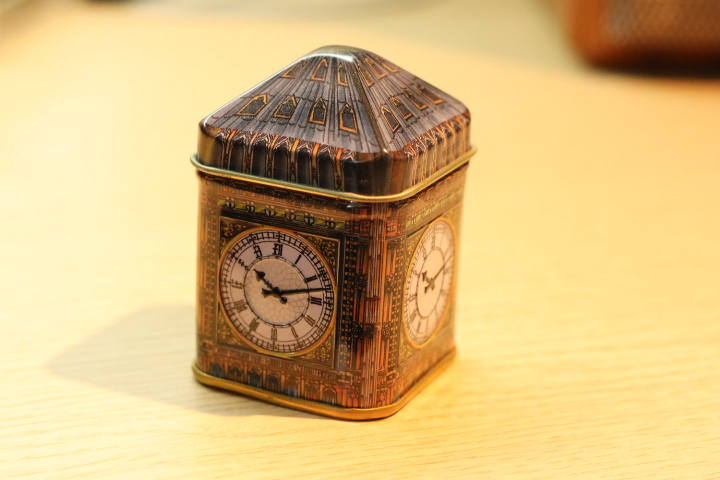Big Ben: (178, 37, 490, 445)
